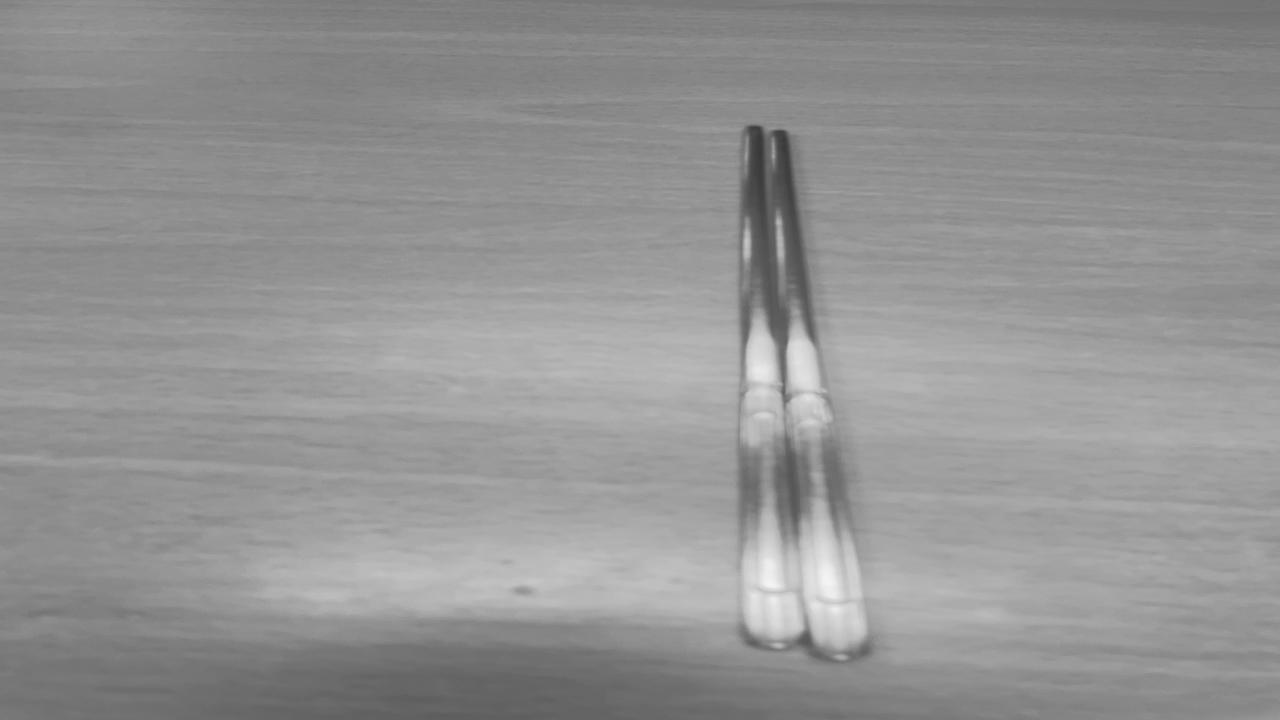chopstick: (739, 128, 876, 657)
